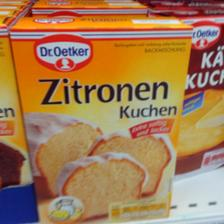Kuchen: (6, 13, 194, 223)
